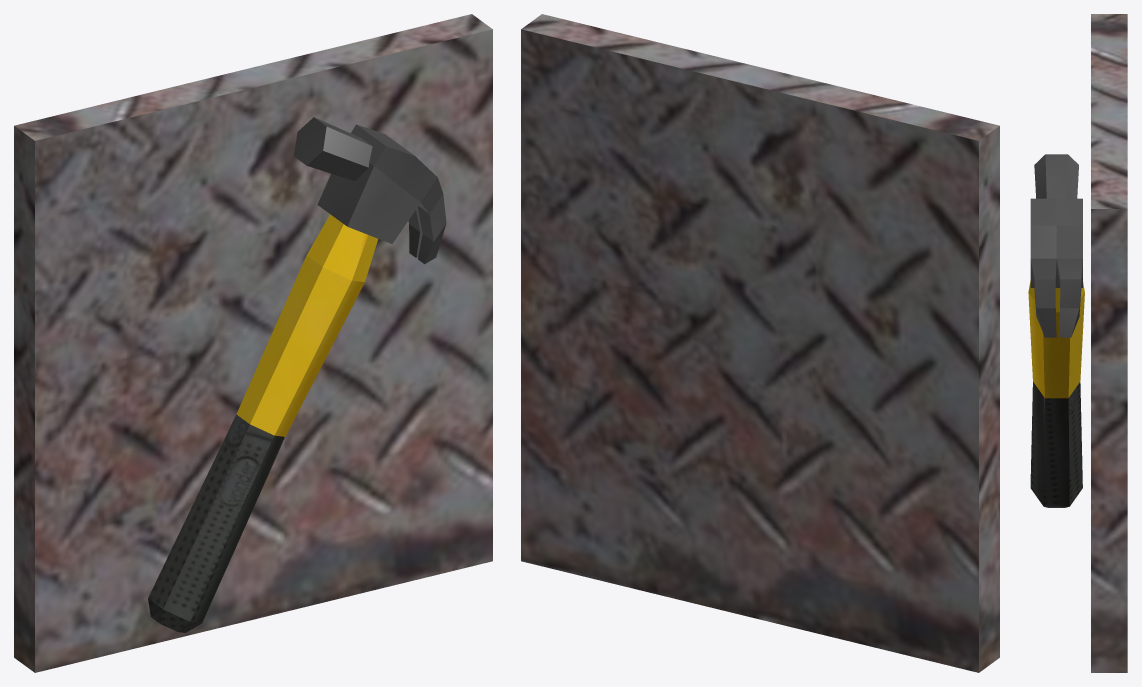
Rendered from MarteloConcerto.glb.
3 views of the same model, side by side, from view 1: azimuth 30°, elevation 25°; view 2: azimuth 150°, elevation 25°; view 3: azimuth 270°, elevation 25° (orthographic). The views are drawn at different scales.
Parts seen in each view (by area): view 1: Cube; view 2: Cube; view 3: Cube.
Part boxes in pixels (box(x1,y1,x2,y2)): Cube: box(14, 14, 492, 672); Cube: box(521, 14, 999, 672); Cube: box(1028, 14, 1127, 672).
Size of the model in its own units: 4.42 by 4.9 by 0.9493.
1 material, 1 textured.
